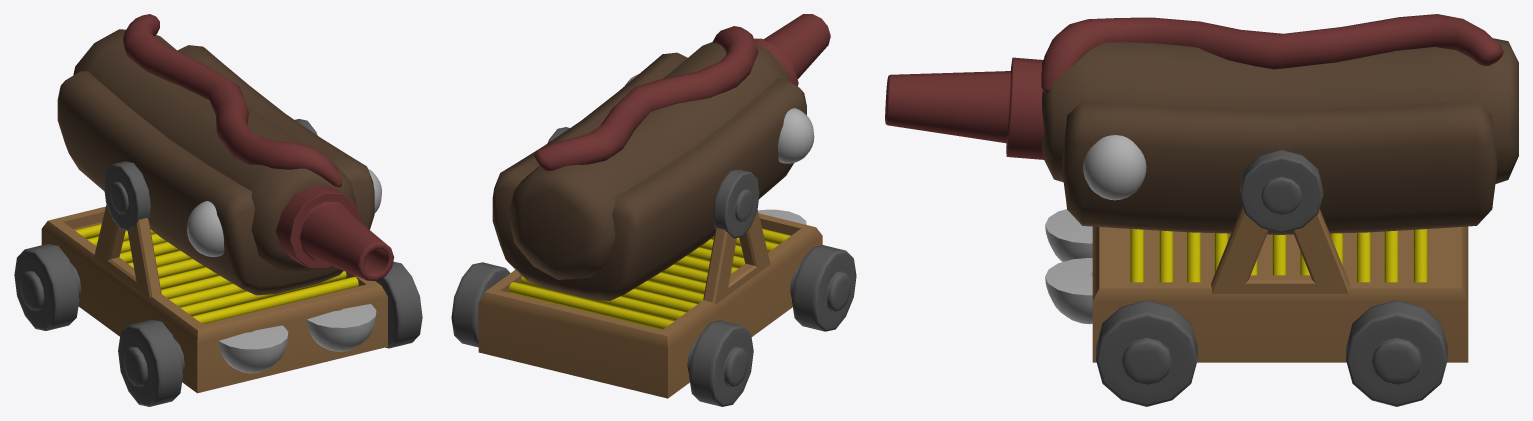
The model's file is hot dawg tower.fbx.
3 renders of one model, left to right at view 1: azimuth 30°, elevation 25°; view 2: azimuth 150°, elevation 25°; view 3: azimuth 270°, elevation 25°, orthographic. The views are drawn at different scales.
Parts seen in each view (by area): view 1: HOTDOG_BUN_UVED; view 2: HOTDOG_BUN_UVED; view 3: HOTDOG_BUN_UVED.
Part boxes in pixels (x1=…): HOTDOG_BUN_UVED: x1=14, y1=14, x2=422, y2=406; HOTDOG_BUN_UVED: x1=451, y1=14, x2=856, y2=406; HOTDOG_BUN_UVED: x1=885, y1=14, x2=1518, y2=406.
Size of the model in its own units: 16.25 by 14.34 by 26.72.
